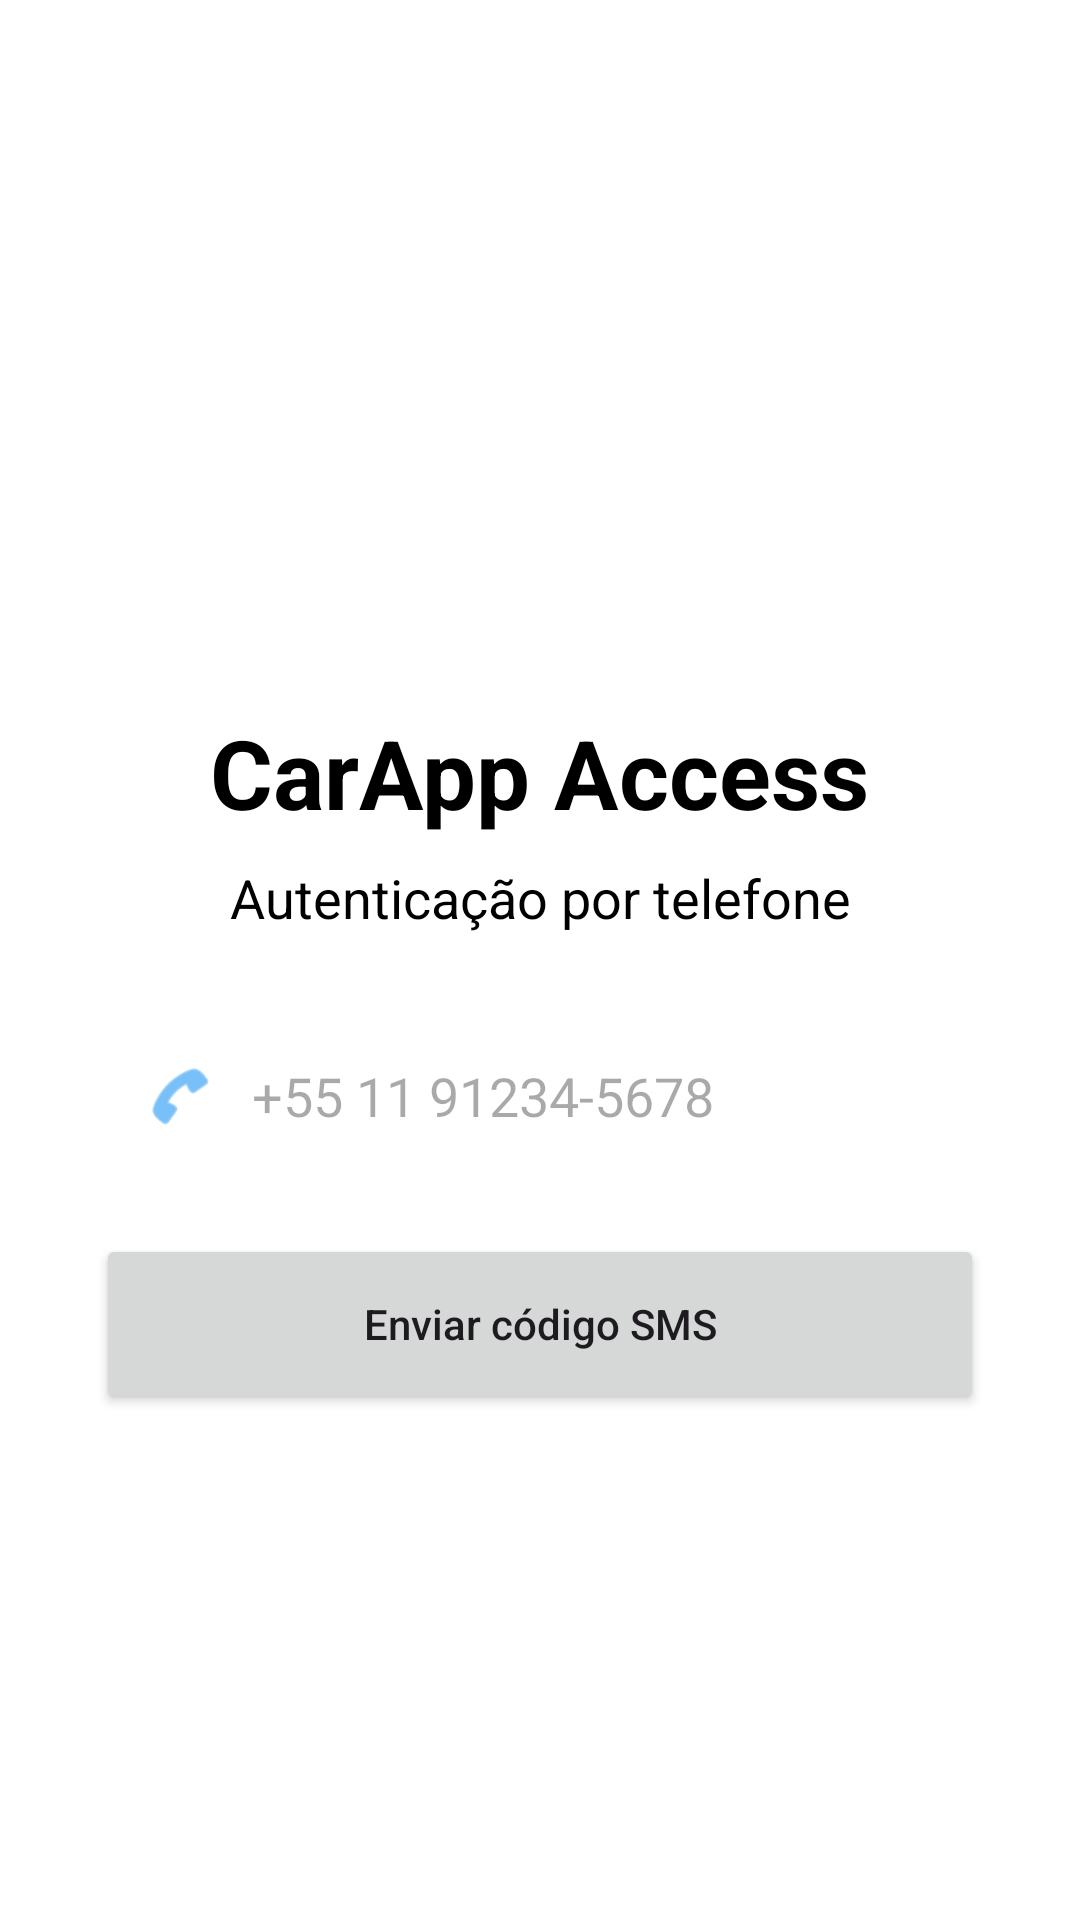

Where icons sit on this 1080 x 1920 app screen, as (x1, y1, x2, y2):
call: (152, 1068, 209, 1125)
